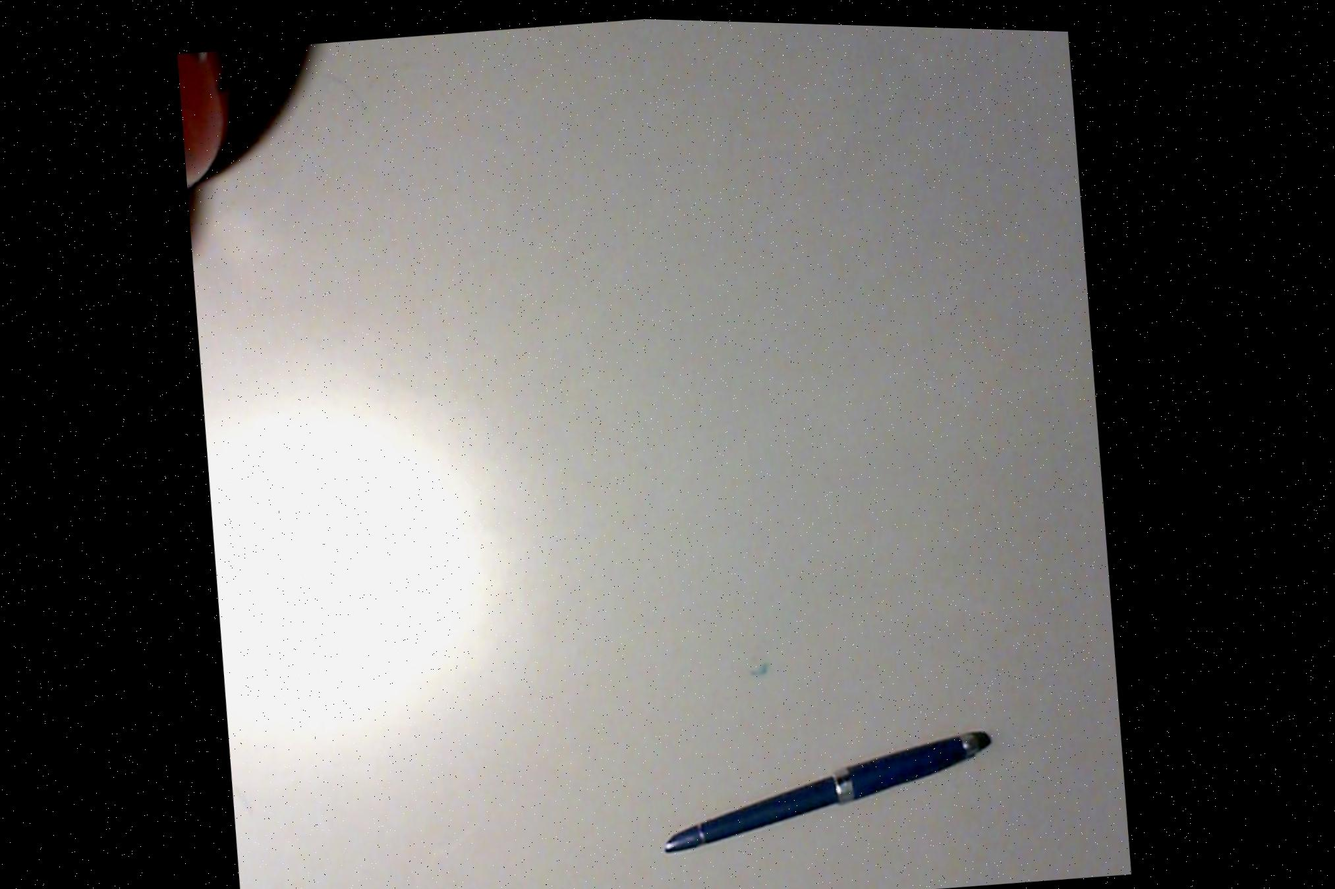pen-pencil: (665, 730, 992, 852)
